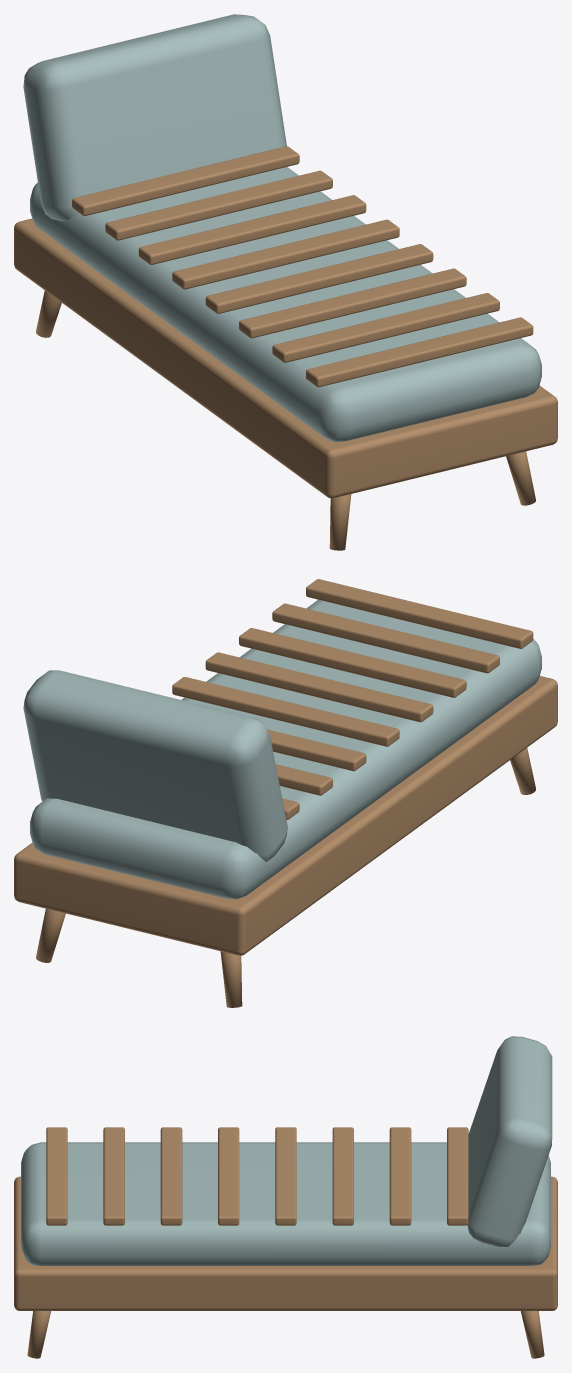
File: atelier-outdoor-lounge-chair.glb
The picture shows the model from 3 angles, top to bottom: view 1: azimuth 30°, elevation 25°; view 2: azimuth 150°, elevation 25°; view 3: azimuth 270°, elevation 25°; orthographic projection. The views are drawn at different scales.
Parts seen in each view (by area): view 1: fabric.022, legs.019; view 2: fabric.022, legs.019; view 3: fabric.022, legs.019.
Part boxes in pixels (left/top/right/bottom): fabric.022: left=23, top=14, right=541, bottom=441; legs.019: left=14, top=146, right=557, bottom=550; fabric.022: left=23, top=599, right=541, bottom=899; legs.019: left=14, top=579, right=557, bottom=1007; fabric.022: left=21, top=1036, right=552, bottom=1265; legs.019: left=14, top=1127, right=557, bottom=1358.
Bounding box in the file's own units: 0.8 × 0.9248 × 1.9.
